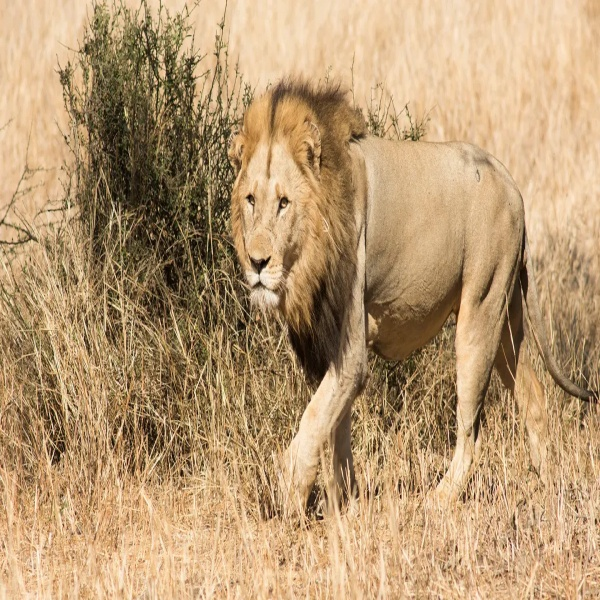Lion: (227, 72, 599, 524)
